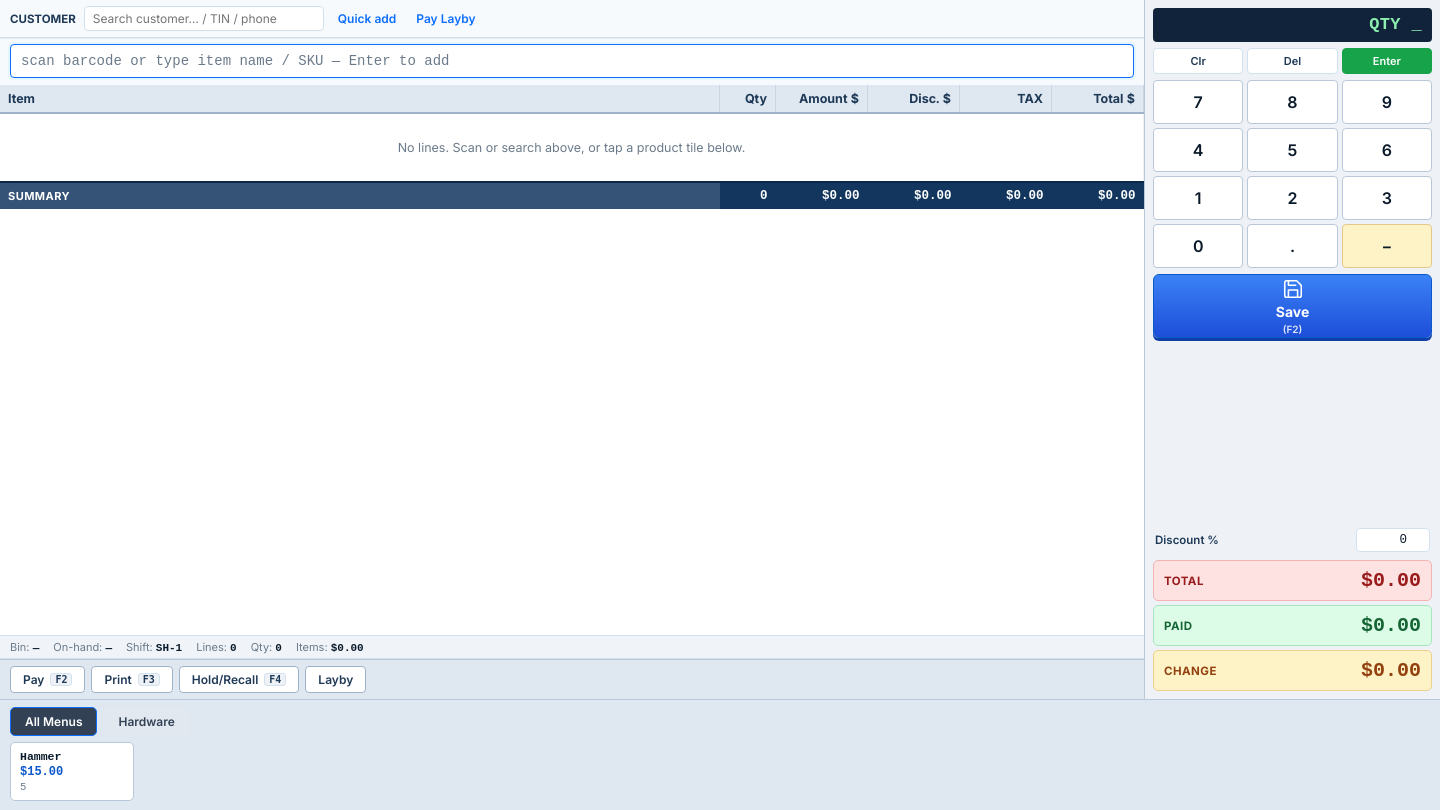
DesktopPOSTerminal › order discount shrinks the taxable base on screen
Click the button "Hammer $15.00 5" at [72, 772], box 10,742 -> 134,801
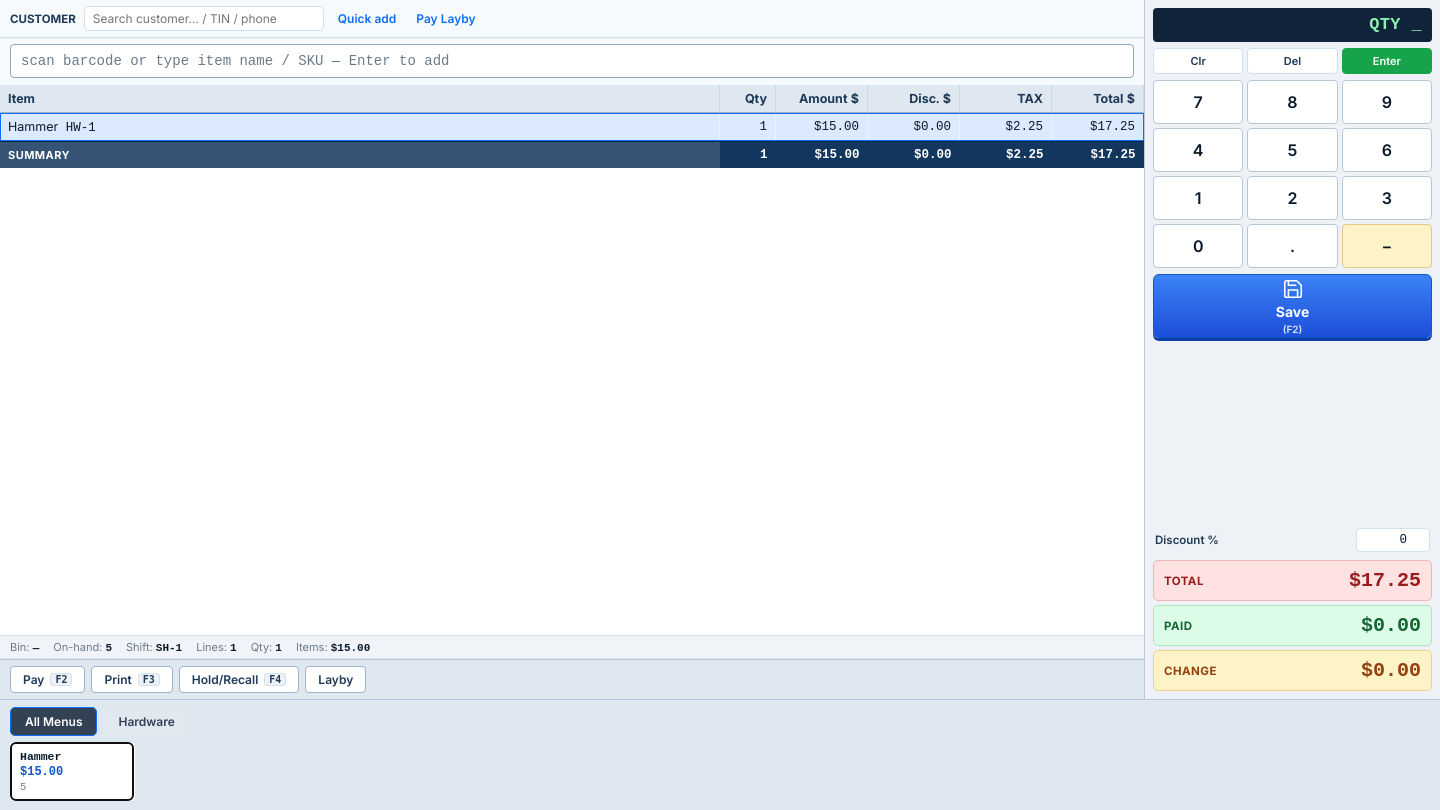
Check: the text "$17.25" in the row of "HW-1" is shown, box 1090,120 -> 1135,134
Type "10" into the number field named "Discount %" at [1393, 540], box 1356,528 -> 1430,552
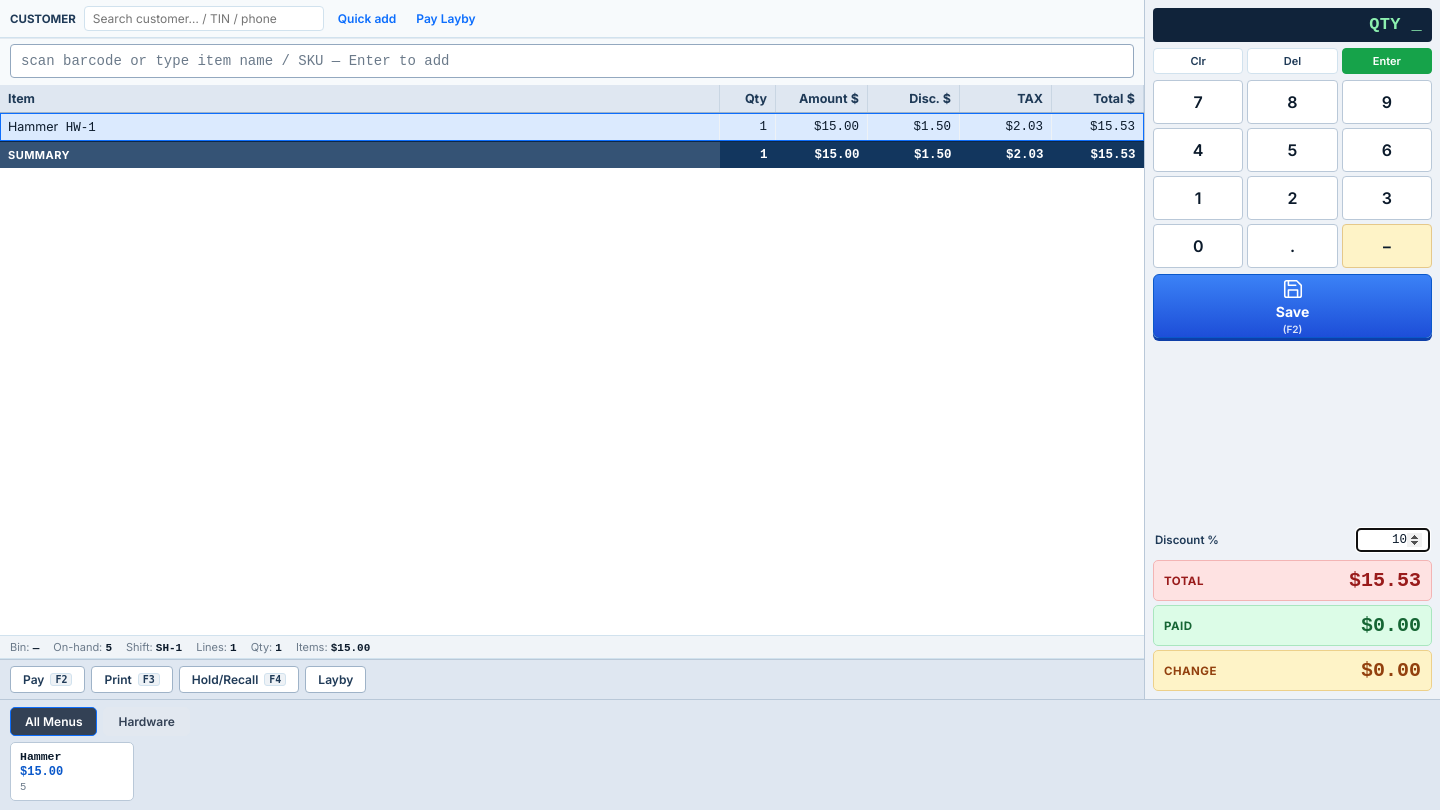
Check: the text "$15.53" in the row of "HW-1" is shown, box 1090,120 -> 1135,134
